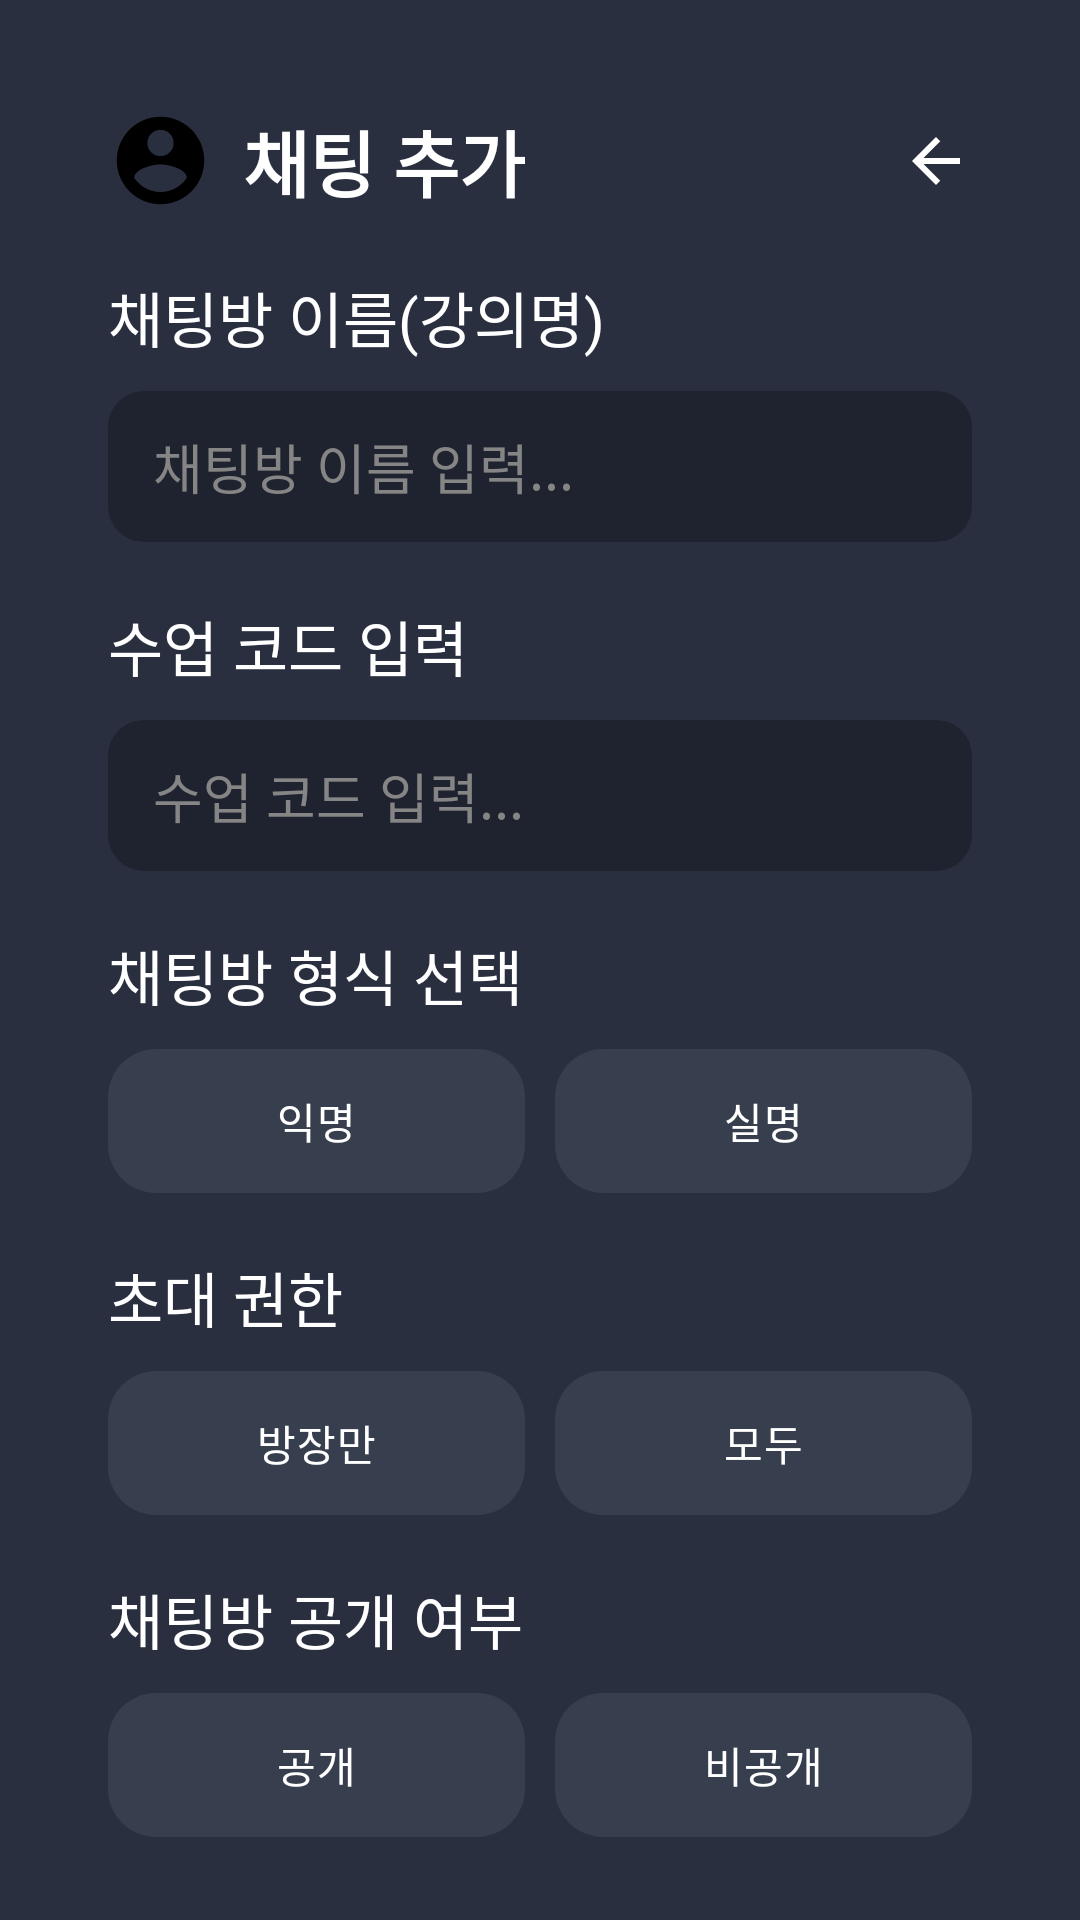

Named icons in this screenshot (1080w x 1920h) and their bounding boxes, BBox(x1, y1, x2, y2):
account circle: BBox(117, 117, 204, 204)
뒤로가기 버튼: BBox(912, 137, 960, 185)
